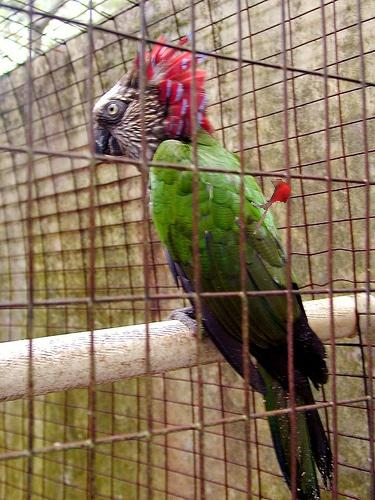tampered: (251, 180, 291, 234)
